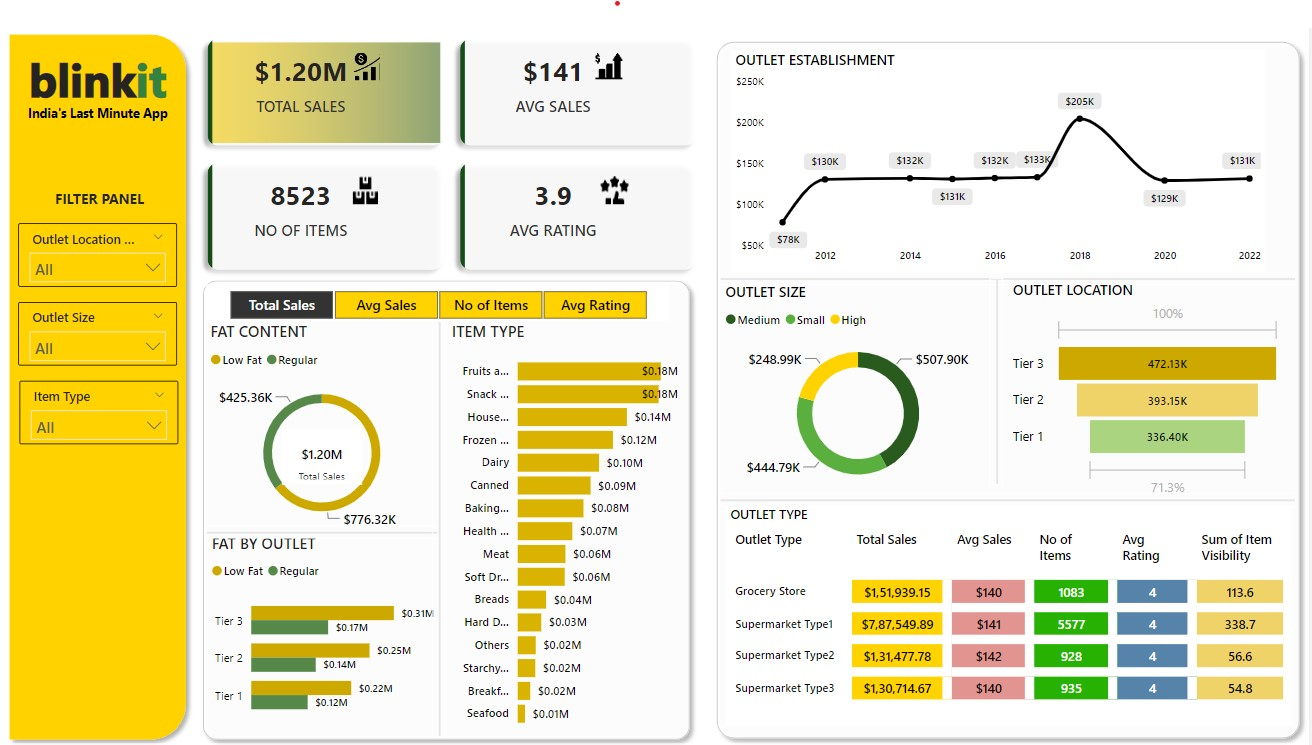

What the dashboard file says about the page in this screenshot:
{"tool":"powerbi","page":{"name":"Page 1","canvas":[1400,800],"ordinal":0},"visuals":[{"type":"shape","box":[14.5,25.1,205,764.3],"z":0},{"type":"textbox","box":[33,43.5,168.1,75],"z":1000},{"type":"textbox","box":[33,103.6,168.1,30],"z":2000},{"type":"cardVisual","fields":{"Data":["BlinkIT Grocery Data.Total Sales","BlinkIT Grocery Data.Avg Sales","BlinkIT Grocery Data.No of Items","BlinkIT Grocery Data.Avg Rating"]},"box":[219.1,25.5,544.8,273.2],"z":3000},{"type":"shape","box":[219.5,285.6,532.9,503.8],"z":4000},{"type":"donutChart","title":"FAT CONTENT","fields":{"Y":["BlinkIT Grocery Data.Total Sales"],"Category":["BlinkIT Grocery Data.Item Fat Content"]},"box":[231.4,337.2,246,230.1],"z":5000},{"type":"slicer","fields":{"Values":["Metrics.Metrics"]},"box":[231.4,298.8,490.6,38.3],"z":6000},{"type":"cardVisual","fields":{"Data":["BlinkIT Grocery Data.Total Sales"]},"box":[312.1,452.2,84.6,58.2],"z":7000},{"type":"clusteredBarChart","title":"FAT BY OUTLET","fields":{"Y":["BlinkIT Grocery Data.Total Sales"],"Category":["BlinkIT Grocery Data.Outlet Location Type"],"Series":["BlinkIT Grocery Data.Item Fat Content"]},"box":[232.7,560.7,246,210.2],"z":8000},{"type":"shape","box":[231.4,554,246,13.2],"z":9000},{"type":"shape","box":[470.7,337.2,14.5,440.3],"z":10000},{"type":"barChart","title":"ITEM TYPE","fields":{"Y":["BlinkIT Grocery Data.Total Sales"],"Category":["BlinkIT Grocery Data.Item Type"]},"box":[486.6,337.2,249.9,440.3],"z":11000},{"type":"shape","box":[763,33.1,634.7,755],"z":12000},{"type":"lineChart","title":" OUTLET ESTABLISHMENT","fields":{"Y":["BlinkIT Grocery Data.Total Sales"],"Category":["BlinkIT Grocery Data.Outlet Establishment Year"]},"box":[786.8,50.2,566,235.4],"z":13000},{"type":"shape","box":[774.9,285.6,609.6,13.2],"z":14000},{"type":"donutChart","title":"OUTLET SIZE","fields":{"Y":["BlinkIT Grocery Data.Total Sales"],"Category":["BlinkIT Grocery Data.Outlet Size"]},"box":[776.2,296.2,290.9,230.1],"z":15000},{"type":"shape","box":[1060.5,292.2,14.5,218.2],"z":16000},{"type":"funnel","title":"OUTLET LOCATION","fields":{"Y":["Sum(BlinkIT Grocery Data.Sales)"],"Category":["BlinkIT Grocery Data.Outlet Location Type"]},"box":[1080.3,293.6,293.6,235.4],"z":17000},{"type":"shape","box":[774.9,519.7,609.6,13.2],"z":18000},{"type":"pivotTable","title":"OUTLET TYPE","fields":{"Rows":["BlinkIT Grocery Data.Outlet Type"],"Values":["BlinkIT Grocery Data.Total Sales","BlinkIT Grocery Data.Avg Sales","BlinkIT Grocery Data.No of Items","BlinkIT Grocery Data.Avg Rating","Sum(BlinkIT Grocery Data.Item Visibility)"]},"box":[781.5,532.9,599,232.7],"z":19000},{"type":"slicer","fields":{"Values":["BlinkIT Grocery Data.Outlet Location Type"]},"box":[33.1,233.7,167.9,67.4],"z":20000},{"type":"slicer","fields":{"Values":["BlinkIT Grocery Data.Outlet Size"]},"box":[33.1,317,167.9,67.4],"z":21000},{"type":"slicer","fields":{"Values":["BlinkIT Grocery Data.Item Type"]},"box":[34.4,400.3,167.9,67.4],"z":22000},{"type":"textbox","box":[62.1,193.1,113.7,30.4],"z":23000}]}

Visuals, with their boxes in screenshot pixels (x1, y1, x2, y2), scaled from the page's 1400x800 canvas onto the 1312x745 screenshot:
shape: x1=14, y1=23, x2=206, y2=735
textbox: x1=31, y1=41, x2=188, y2=110
textbox: x1=31, y1=96, x2=188, y2=124
cardVisual - BlinkIT Grocery Data.Total Sales x BlinkIT Grocery Data.Avg Sales: x1=205, y1=24, x2=716, y2=278
shape: x1=206, y1=266, x2=705, y2=735
"FAT CONTENT" donutChart: x1=217, y1=314, x2=447, y2=528
slicer - Metrics.Metrics: x1=217, y1=278, x2=677, y2=314
cardVisual - BlinkIT Grocery Data.Total Sales: x1=292, y1=421, x2=372, y2=475
"FAT BY OUTLET" clusteredBarChart: x1=218, y1=522, x2=449, y2=718
shape: x1=217, y1=516, x2=447, y2=528
shape: x1=441, y1=314, x2=455, y2=724
"ITEM TYPE" barChart: x1=456, y1=314, x2=690, y2=724
shape: x1=715, y1=31, x2=1310, y2=734
" OUTLET ESTABLISHMENT" lineChart: x1=737, y1=47, x2=1268, y2=266
shape: x1=726, y1=266, x2=1297, y2=278
"OUTLET SIZE" donutChart: x1=727, y1=276, x2=1000, y2=490
shape: x1=994, y1=272, x2=1007, y2=475
"OUTLET LOCATION" funnel: x1=1012, y1=273, x2=1288, y2=493
shape: x1=726, y1=484, x2=1297, y2=496
"OUTLET TYPE" pivotTable: x1=732, y1=496, x2=1294, y2=713
slicer - BlinkIT Grocery Data.Outlet Location Type: x1=31, y1=218, x2=188, y2=280
slicer - BlinkIT Grocery Data.Outlet Size: x1=31, y1=295, x2=188, y2=358
slicer - BlinkIT Grocery Data.Item Type: x1=32, y1=373, x2=190, y2=436
textbox: x1=58, y1=180, x2=165, y2=208
